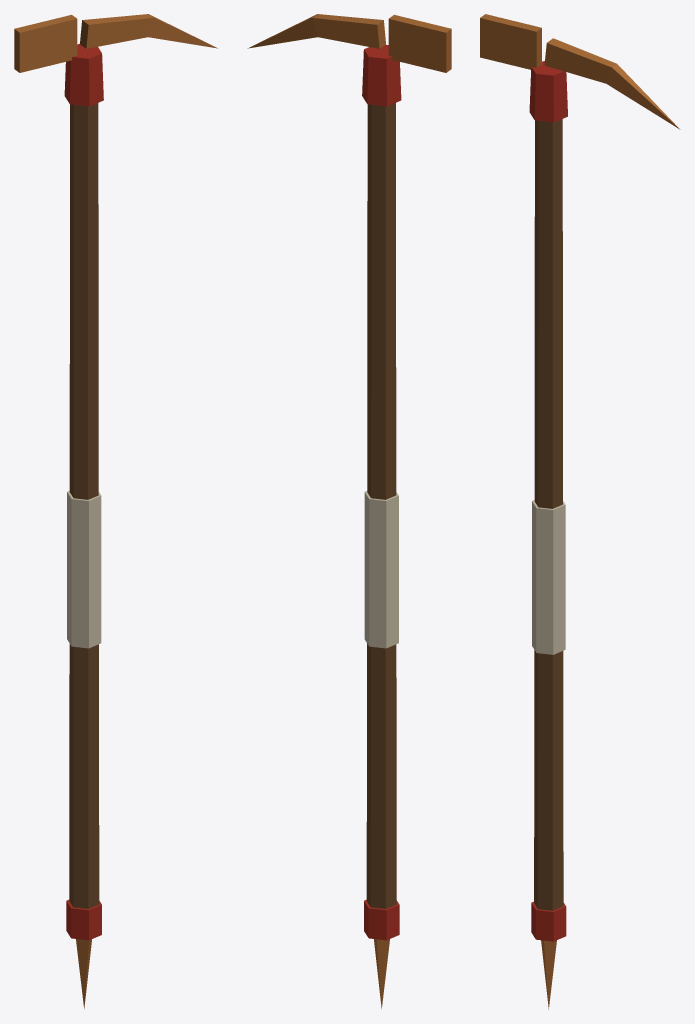
File: weapon_naginata.glb
3 renders of one model, left to right at view 1: azimuth 30°, elevation 25°; view 2: azimuth 150°, elevation 25°; view 3: azimuth 330°, elevation 25°, orthographic.
Visible parts, largest first — view 1: gnome_weapon_naginata; view 2: gnome_weapon_naginata; view 3: gnome_weapon_naginata.
Part boxes in pixels (x1,y1,x2,y2): gnome_weapon_naginata: (14,14,218,1008); gnome_weapon_naginata: (247,14,451,1008); gnome_weapon_naginata: (480,14,680,1009).
Bounding box in the file's own units: 0.378 × 1.78 × 0.0638.
